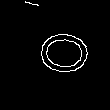O_W: (23, 30, 87, 80)
